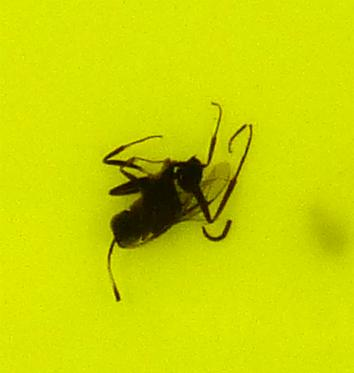Hymenoptera: (100, 100, 254, 273)
